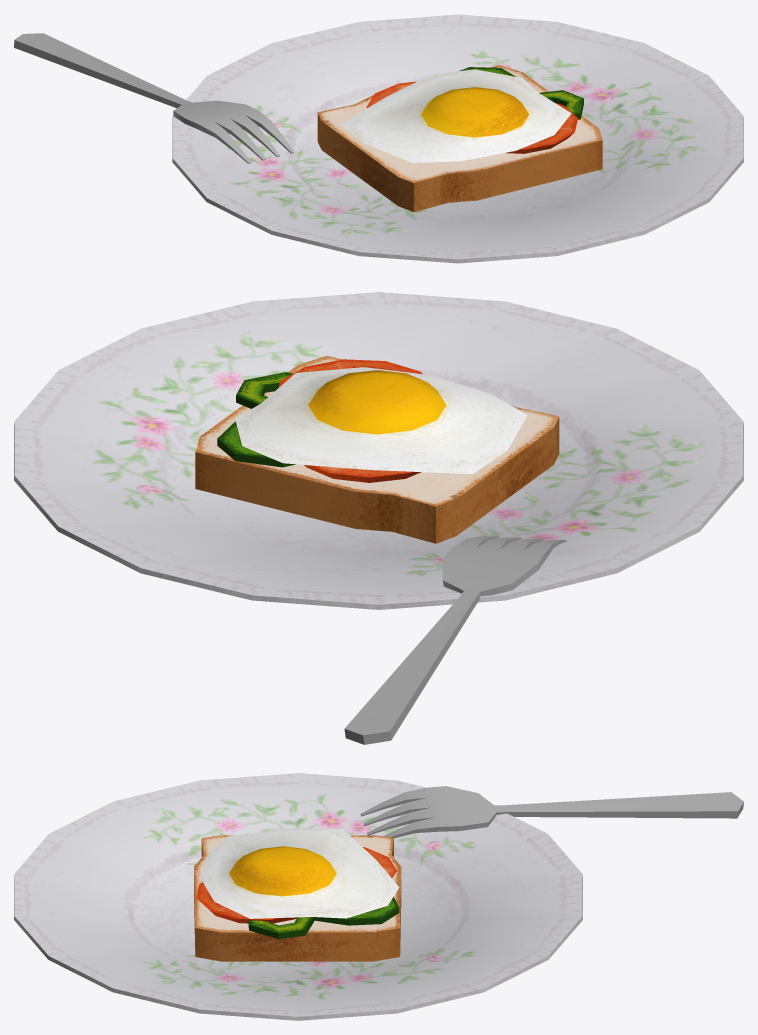
3 renders of one model, top to bottom at view 1: azimuth 30°, elevation 25°; view 2: azimuth 150°, elevation 25°; view 3: azimuth 270°, elevation 25°, orthographic. The views are drawn at different scales.
Parts seen in each view (by area): view 1: prato_plate_0, ovo, torrada, garfo_fork_0, pimentao, tomate2; view 2: prato_plate_0, ovo, torrada, garfo_fork_0, pimentao, tomate1, tomate2; view 3: prato_plate_0, ovo, garfo_fork_0, torrada, pimentao, tomate2.
Part boxes in pixels (x1=…): prato_plate_0: x1=172, y1=14, x2=743, y2=263; ovo: x1=340, y1=69, x2=571, y2=163; torrada: x1=317, y1=65, x2=602, y2=211; garfo_fork_0: x1=14, y1=33, x2=294, y2=163; pimentao: x1=459, y1=67, x2=583, y2=119; tomate2: x1=506, y1=102, x2=577, y2=153; prato_plate_0: x1=14, y1=292, x2=743, y2=609; ovo: x1=235, y1=367, x2=527, y2=473; torrada: x1=195, y1=355, x2=559, y2=543; garfo_fork_0: x1=344, y1=536, x2=566, y2=744; pimentao: x1=217, y1=372, x2=295, y2=467; tomate1: x1=304, y1=465, x2=421, y2=482; tomate2: x1=278, y1=359, x2=422, y2=387; prato_plate_0: x1=14, y1=773, x2=582, y2=1020; ovo: x1=201, y1=828, x2=399, y2=918; garfo_fork_0: x1=360, y1=786, x2=743, y2=838; torrada: x1=194, y1=835, x2=401, y2=961; pimentao: x1=248, y1=897, x2=399, y2=938; tomate2: x1=196, y1=882, x2=296, y2=923.
Bounding box in the file's own units: 27.12 × 3.06 × 34.26.
6 materials, 5 textured.
